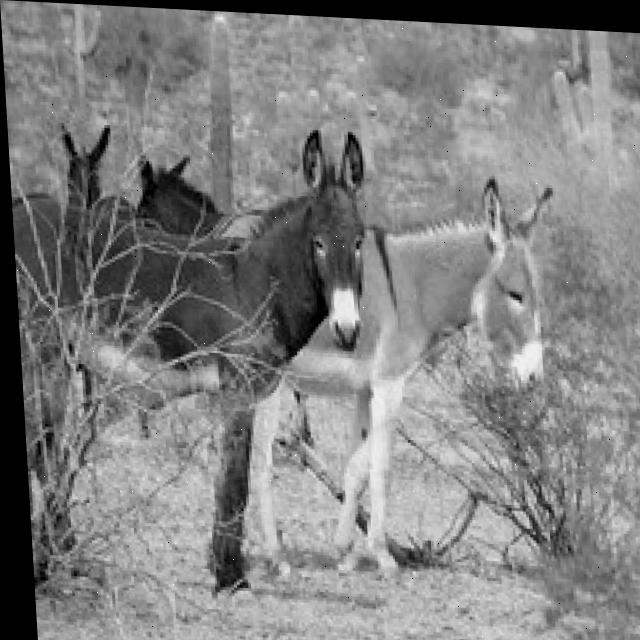Donkey: (7, 112, 392, 607), (203, 158, 576, 591), (7, 117, 138, 591), (128, 149, 225, 237)
